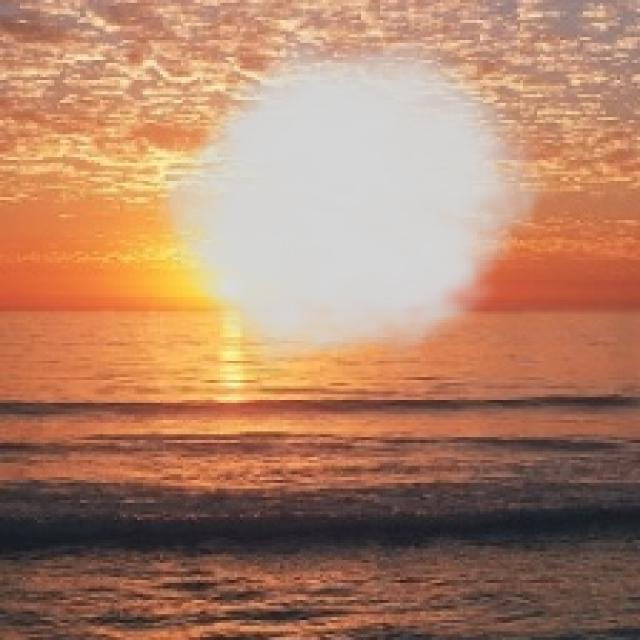Smoke: (142, 34, 558, 377)
